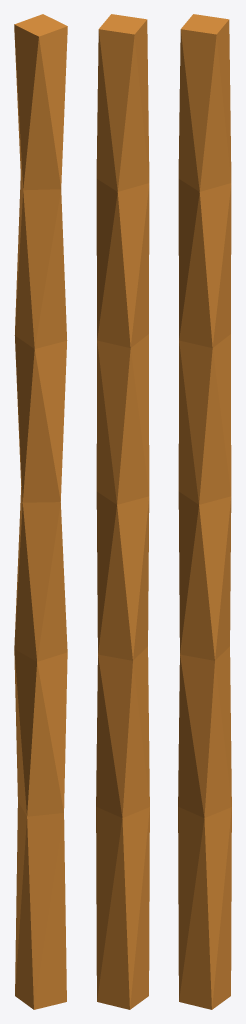
Rendered from Seaweed_04.fbx.
3 renders of one model, left to right at view 1: azimuth 30°, elevation 25°; view 2: azimuth 150°, elevation 25°; view 3: azimuth 330°, elevation 25°, orthographic.
Parts seen in each view (by area): view 1: Seaweed_04; view 2: Seaweed_04; view 3: Seaweed_04.
Part boxes in pixels (bbox=[...]): Seaweed_04: bbox=[14, 14, 67, 1009]; Seaweed_04: bbox=[96, 14, 149, 1009]; Seaweed_04: bbox=[178, 14, 231, 1009].
Size of the model in its own units: 0.0448 by 0.9361 by 0.0448.
